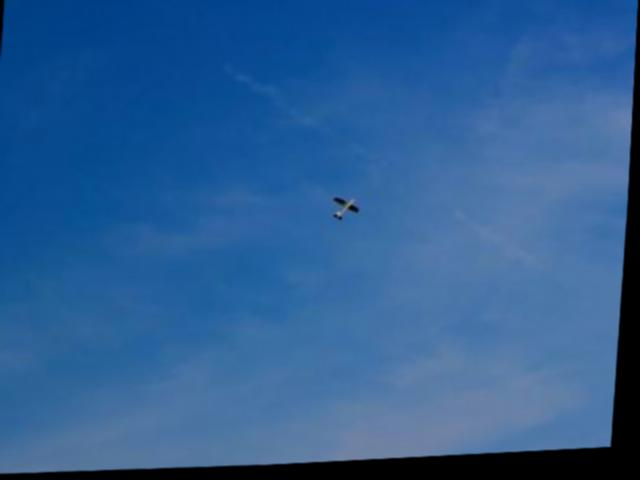uav: (333, 197, 362, 227)
